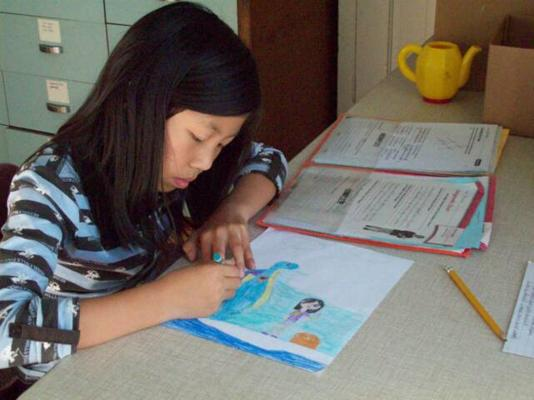person: (3, 4, 288, 383)
